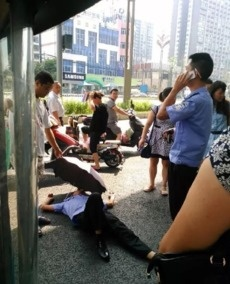falling: (34, 175, 166, 267)
